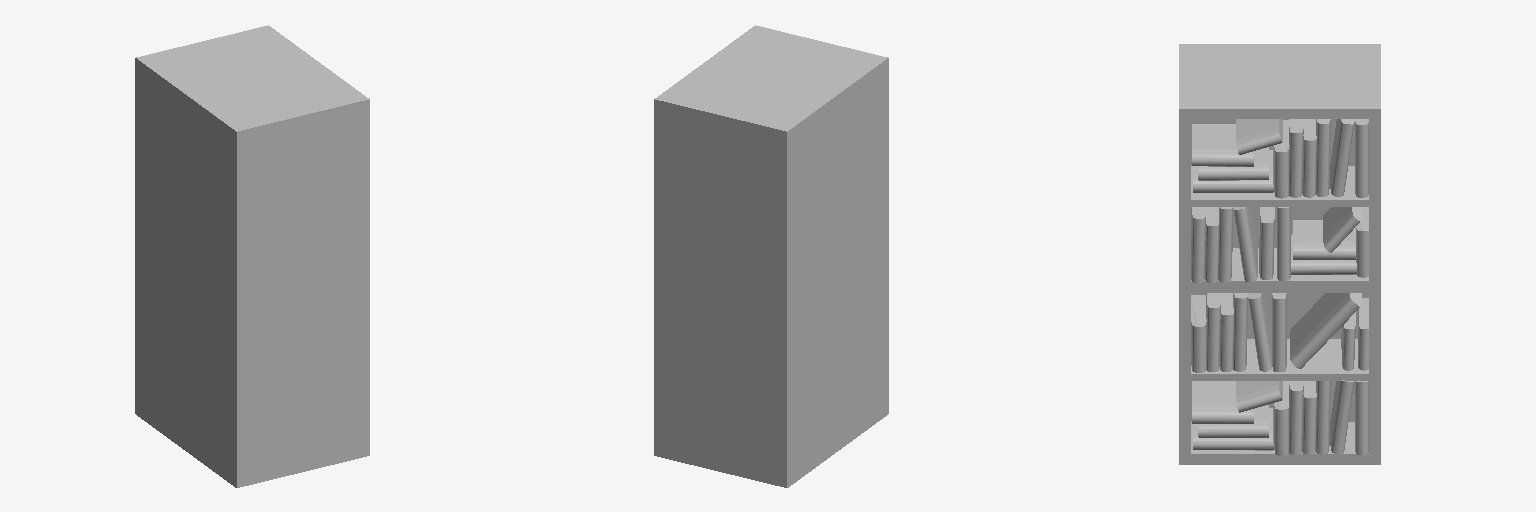
Rendered from book case (1).obj.
3 renders of one model, left to right at view 1: azimuth 30°, elevation 25°; view 2: azimuth 150°, elevation 25°; view 3: azimuth 270°, elevation 25°, orthographic.
Parts seen in each view (by area): view 1: Cube; view 2: Cube; view 3: Cube, Cube.010_Cube.011, Cube.007_Cube.008, Cube.046_Cube.047, Cube.050_Cube.051, Cube.035_Cube.036, Cube.027_Cube.028, Cube.014_Cube.015, Cube.020_Cube.021, Cube.002_Cube.003, Cube.008_Cube.009, Cube.033_Cube.034 (+28 smaller).
Boxes of the visible parts, x1,y1,x2,y2 form: Cube: [135, 25, 369, 487]; Cube: [654, 25, 888, 487]; Cube: [1179, 44, 1380, 464]; Cube.010_Cube.011: [1290, 293, 1361, 368]; Cube.007_Cube.008: [1191, 381, 1253, 423]; Cube.046_Cube.047: [1191, 124, 1253, 166]; Cube.050_Cube.051: [1293, 220, 1355, 259]; Cube.035_Cube.036: [1236, 119, 1282, 154]; Cube.027_Cube.028: [1330, 119, 1354, 196]; Cube.014_Cube.015: [1248, 293, 1271, 371]; Cube.020_Cube.021: [1233, 207, 1257, 282]; Cube.002_Cube.003: [1330, 380, 1353, 454]; Cube.008_Cube.009: [1198, 405, 1268, 437]; Cube.033_Cube.034: [1198, 147, 1268, 180].
Size of the model in its own units: 5.39 by 13.12 by 6.74.